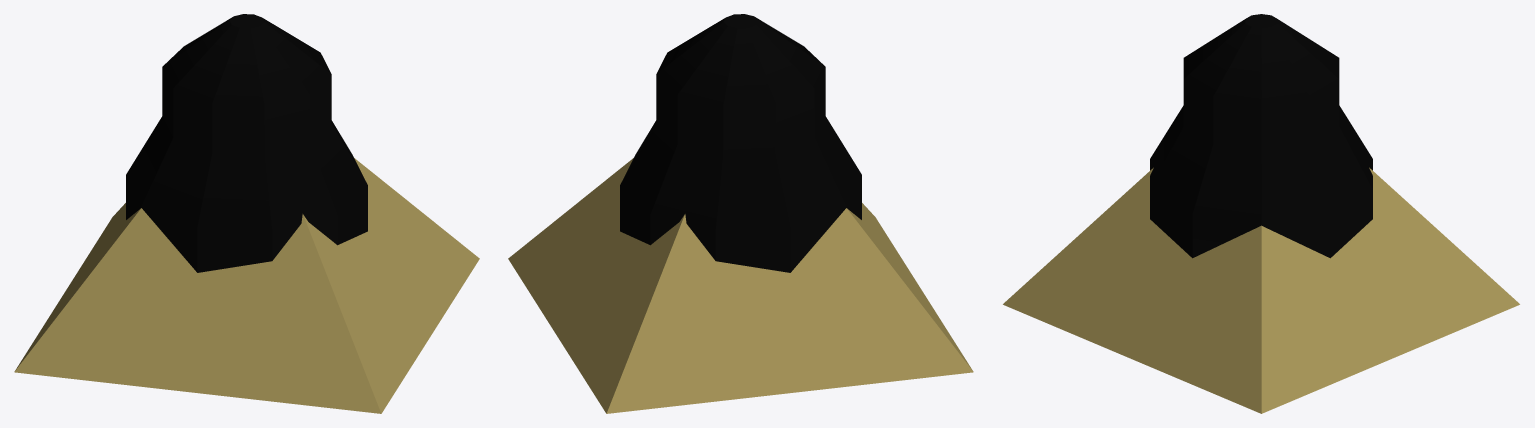
Rendered from capital building.fbx.
3 renders of one model, left to right at view 1: azimuth 30°, elevation 25°; view 2: azimuth 150°, elevation 25°; view 3: azimuth 270°, elevation 25°, orthographic. The views are drawn at different scales.
Parts seen in each view (by area): view 1: pPyramid1, pPrism1; view 2: pPyramid1, pPrism1; view 3: pPyramid1, pPrism1.
Boxes of the visible parts, x1=… form: pPyramid1: x1=14, y1=158, x2=479, y2=413; pPrism1: x1=126, y1=14, x2=367, y2=272; pPyramid1: x1=508, y1=158, x2=973, y2=413; pPrism1: x1=620, y1=14, x2=861, y2=272; pPyramid1: x1=1003, y1=167, x2=1519, y2=413; pPrism1: x1=1150, y1=14, x2=1372, y2=258.
Size of the model in its own units: 49.5 by 30 by 49.5.
